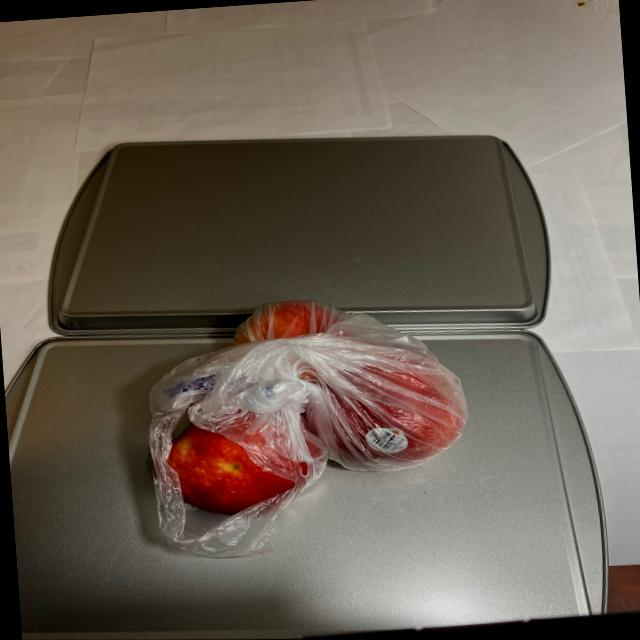apple: (138, 287, 470, 528)
